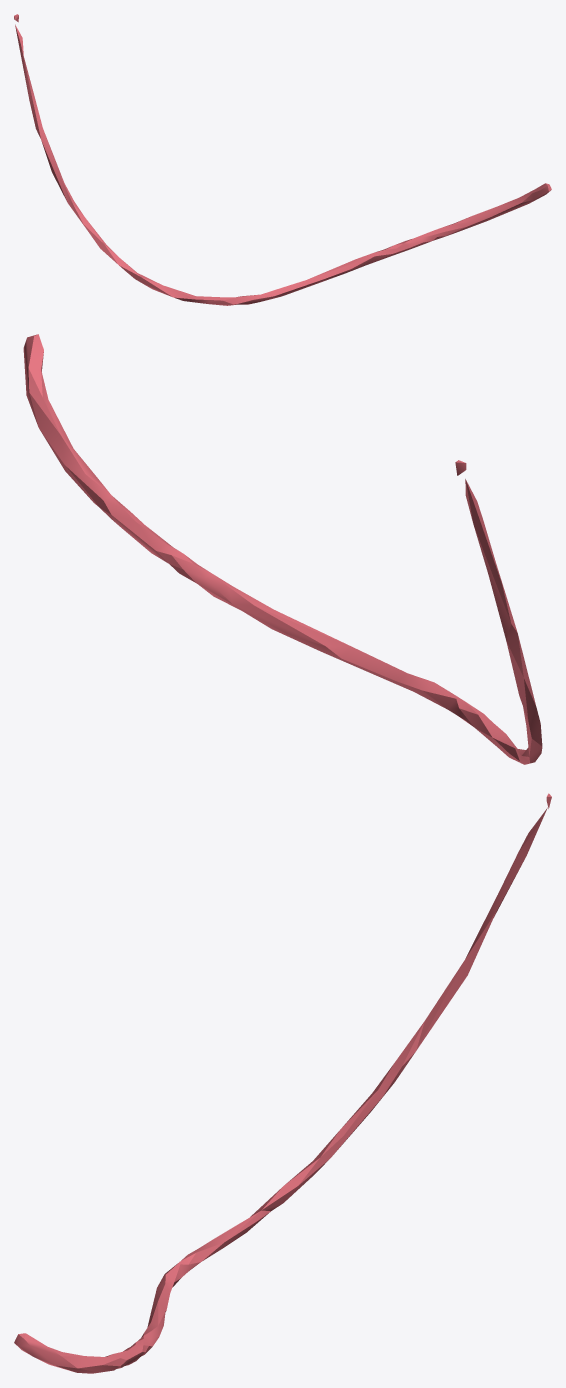
Rendered from fma50519_fj1701.glb.
The picture shows the model from 3 angles, top to bottom: view 1: azimuth 30°, elevation 25°; view 2: azimuth 150°, elevation 25°; view 3: azimuth 270°, elevation 25°; orthographic projection. The views are drawn at different scales.
Visible parts, largest first — view 1: FMA50519_FJ1701; view 2: FMA50519_FJ1701; view 3: FMA50519_FJ1701.
Part boxes in pixels (x1,y1,x2,y2): FMA50519_FJ1701: (14, 14, 551, 305); FMA50519_FJ1701: (23, 334, 542, 764); FMA50519_FJ1701: (14, 793, 551, 1373).
Bounding box in the file's own units: 0.0197 × 0.0117 × 0.0146.
